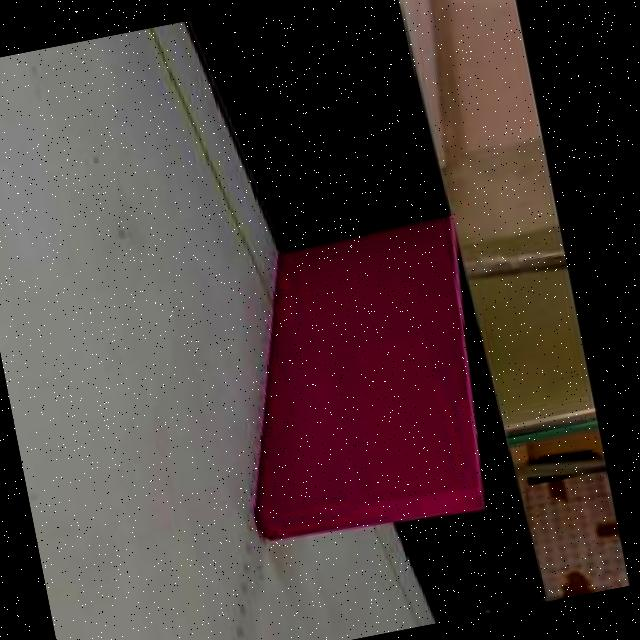xparking: (211, 220, 484, 536)
